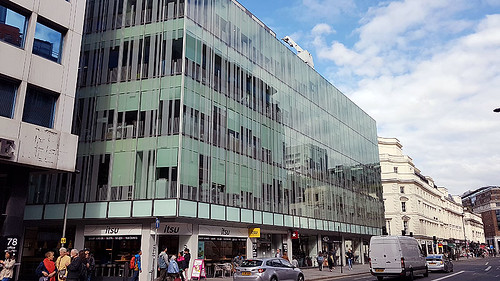building: (67, 1, 399, 272), (1, 5, 93, 281), (384, 141, 485, 254), (458, 185, 500, 246)
car: (229, 259, 301, 281), (423, 252, 455, 275)
sky: (283, 1, 496, 174)
van: (362, 236, 423, 278)
